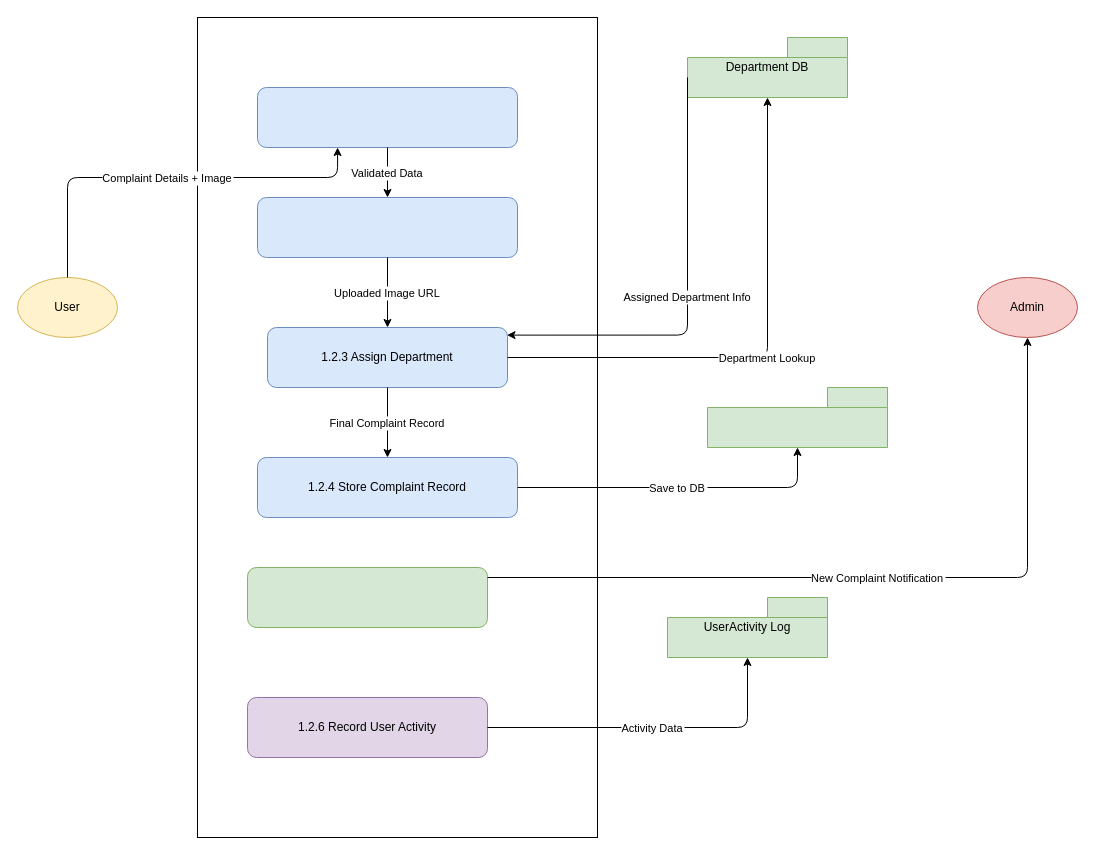
The diagram is 1095 pixels wide and 855 high, and some of its shapes have lost their labels. The box of each missing label's shape, as (x1, y1, x2, y2) in pixels:
1.2.1 Validate Complaint Inputs: (256, 86, 518, 148)
1.2.2 Attach & Upload Image: (256, 196, 518, 258)
1.2.5 Notify Admin: (246, 566, 488, 628)
UserComplaints DB: (706, 386, 888, 448)
